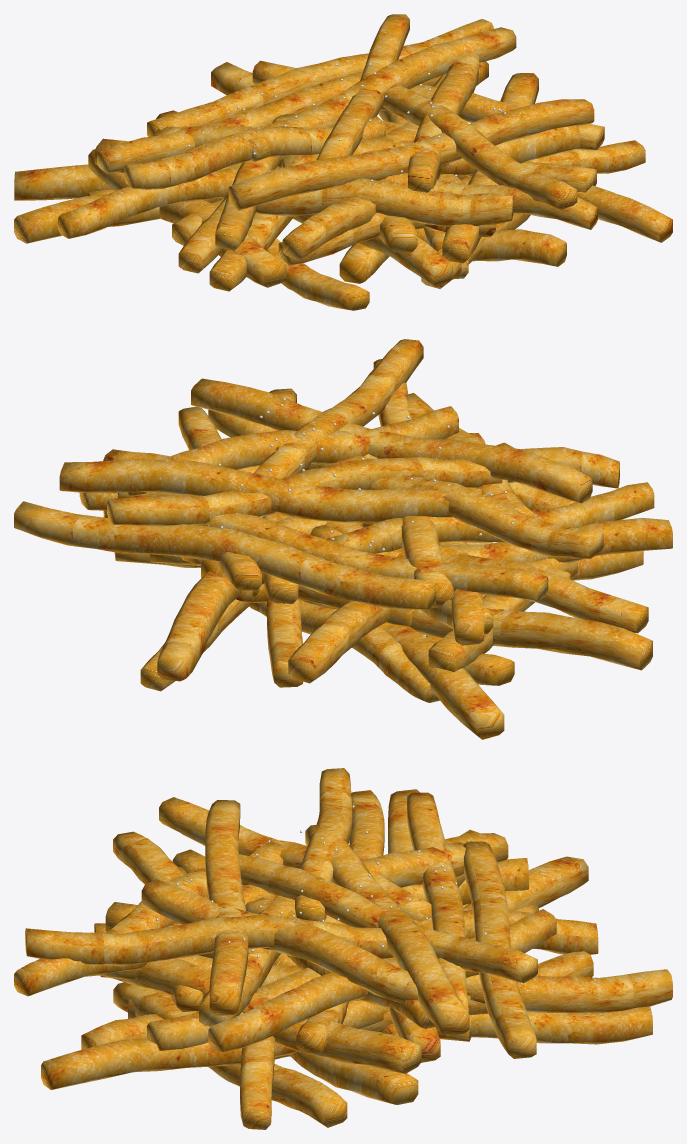
File: sides-fries-large.glb
3 views of the same model, one above another, from view 1: azimuth 30°, elevation 25°; view 2: azimuth 150°, elevation 25°; view 3: azimuth 270°, elevation 25° (orthographic). The views are drawn at different scales.
Parts seen in each view (by area): view 1: Hand cut fry 0; view 2: Hand cut fry 0; view 3: Hand cut fry 0.
Part boxes in pixels (<box>): Hand cut fry 0: <box>14,14,672,310</box>; Hand cut fry 0: <box>14,339,672,739</box>; Hand cut fry 0: <box>14,768,672,1129</box>.
Bounding box in the file's own units: 2.71 × 0.5632 × 2.45.
Materials: 2 (1 with a texture image).
